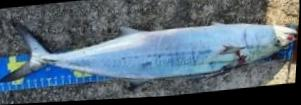fish: (0, 21, 298, 87)
